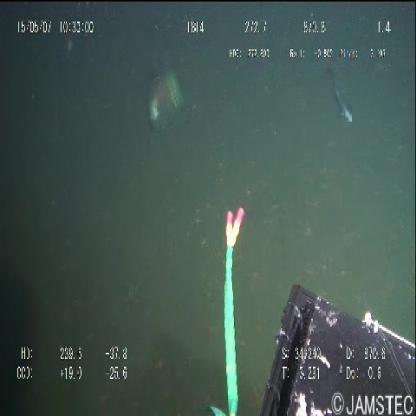Rác: (144, 62, 186, 133)
